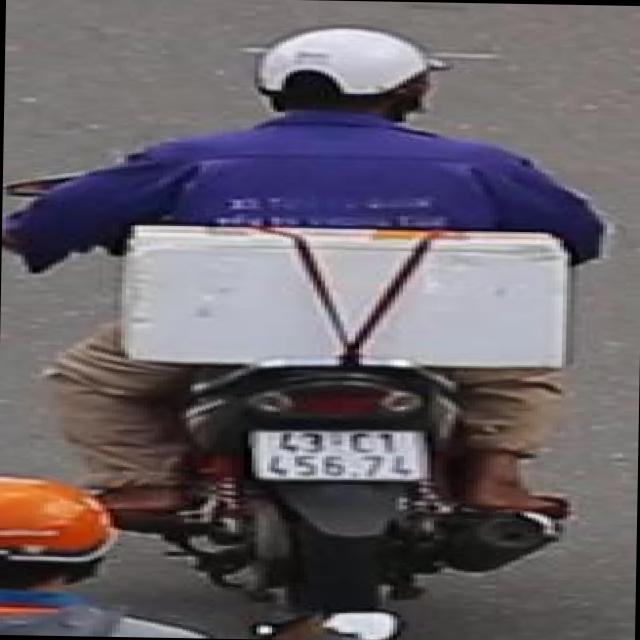LP: (243, 422, 439, 494)
helmet: (248, 18, 444, 122)
